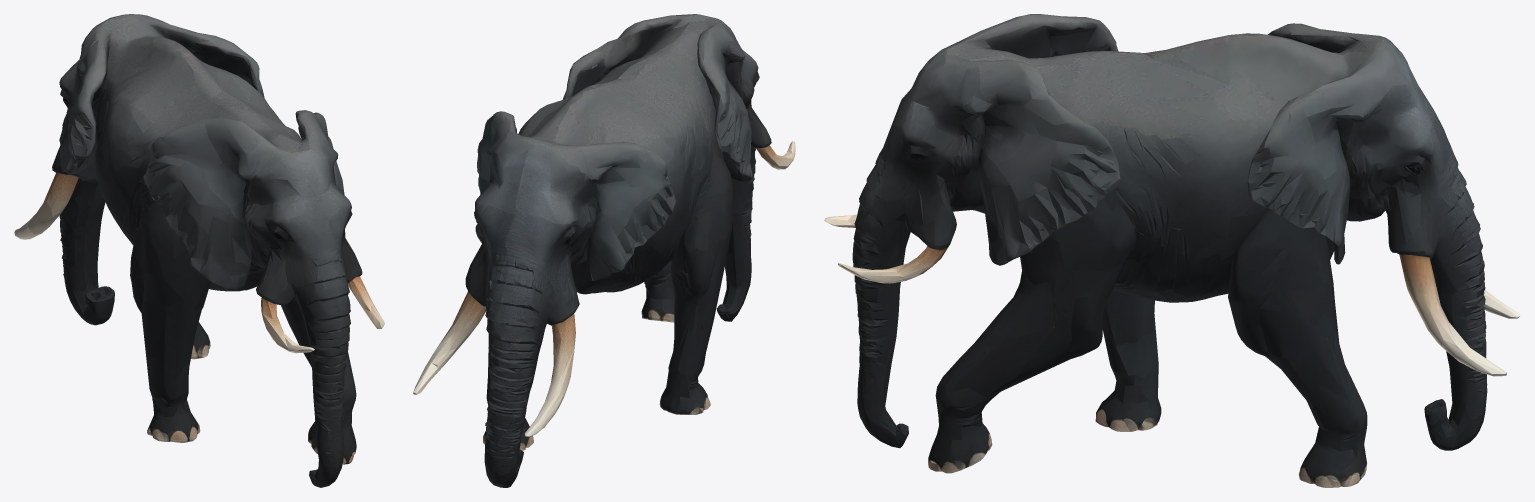
Rendered from fauna_elephant.glb.
The picture shows the model from 3 angles, left to right: view 1: azimuth 30°, elevation 25°; view 2: azimuth 150°, elevation 25°; view 3: azimuth 270°, elevation 25°; orthographic projection. The views are drawn at different scales.
Size of the model in its own units: 0.74 by 1.25 by 1.9.
1 material, 1 textured.
